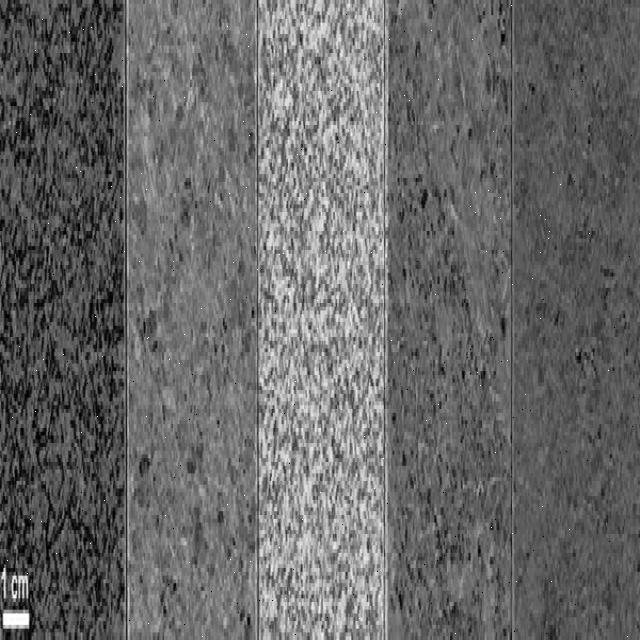Igneous: (127, 4, 259, 640), (257, 4, 386, 636), (513, 12, 640, 632), (388, 4, 510, 640)
